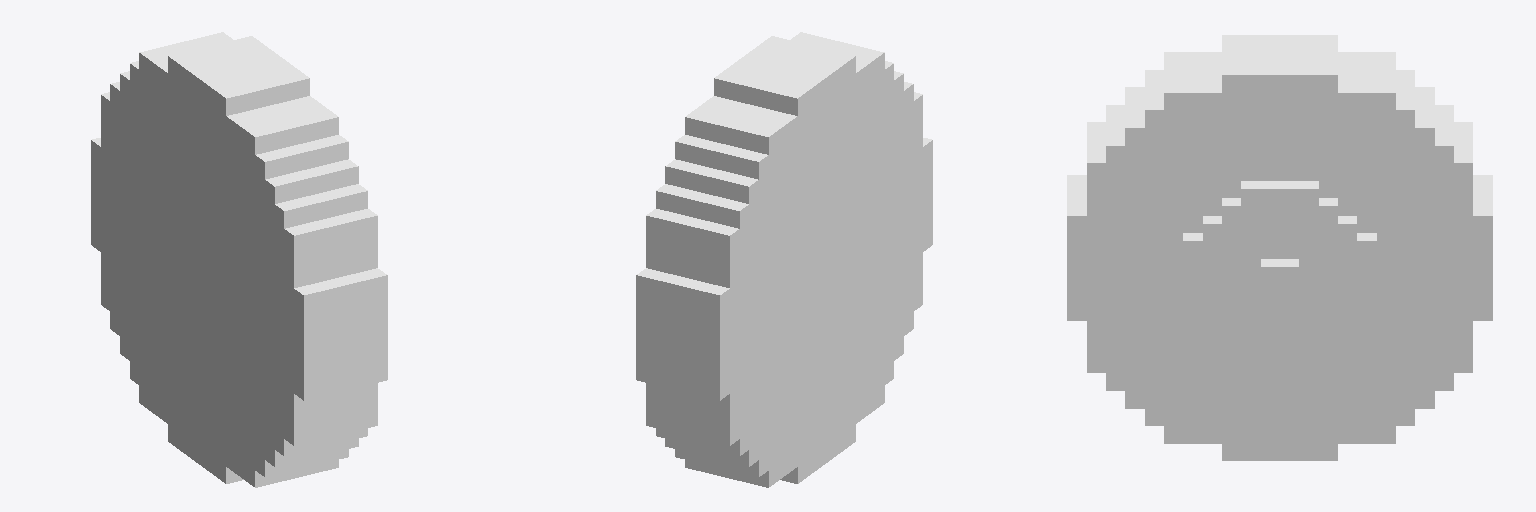
Rendered from wheels-1-zil-130.obj.
3 renders of one model, left to right at view 1: azimuth 30°, elevation 25°; view 2: azimuth 150°, elevation 25°; view 3: azimuth 270°, elevation 25°, orthographic.
Parts seen in each view (by area): view 1: zil-130; view 2: zil-130; view 3: zil-130.
Part boxes in pixels (bbox=[...]): zil-130: bbox=[91, 32, 387, 487]; zil-130: bbox=[636, 32, 932, 487]; zil-130: bbox=[1067, 35, 1492, 460].
Size of the model in its own units: 0.7 by 2.2 by 2.2.